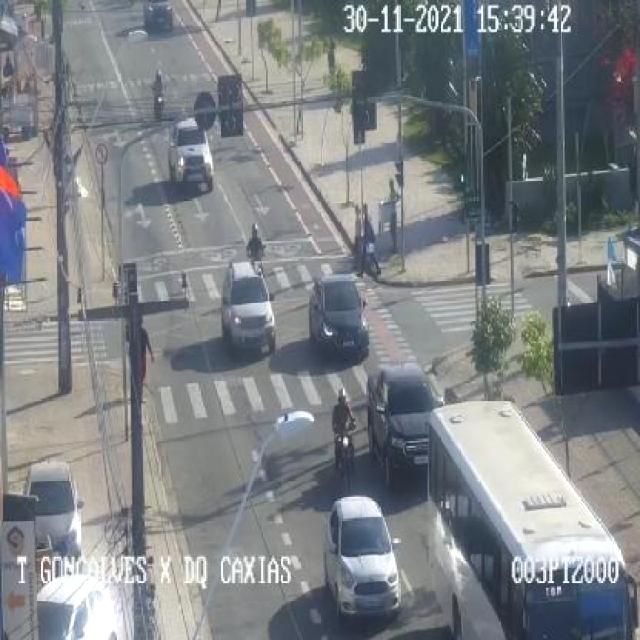Bus: (424, 397, 639, 640)
Car: (320, 496, 408, 626), (15, 457, 92, 570), (219, 260, 278, 358), (310, 273, 372, 359), (32, 577, 116, 640), (167, 124, 220, 197)
Cycle: (364, 366, 448, 484), (327, 388, 359, 471), (248, 222, 273, 272), (150, 69, 167, 127)
